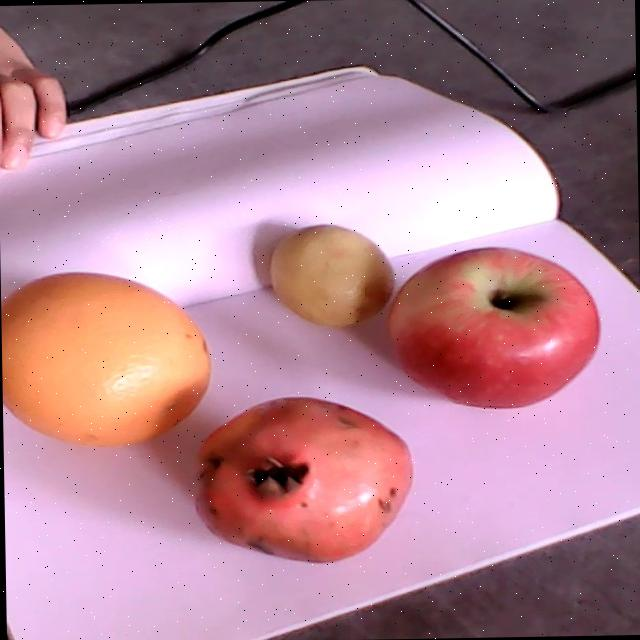apple: (385, 245, 599, 411)
lemon: (268, 223, 393, 326)
orange: (1, 271, 211, 448)
pomegranate: (195, 396, 414, 563)
